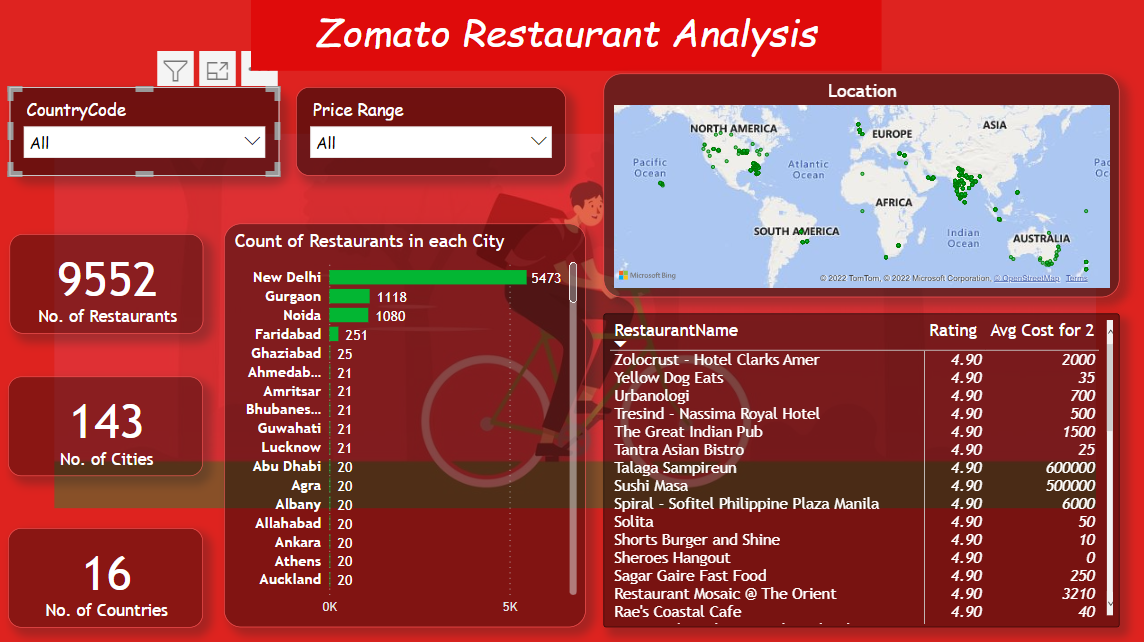

What the dashboard file says about the page in this screenshot:
{"tool":"powerbi","page":{"name":"Page 1","canvas":[1280,720],"ordinal":0},"visuals":[{"type":"card","fields":{"Values":["Count(ZomatoData.RestaurantID)"]},"box":[12.1,259.3,215.4,110.7],"z":0},{"type":"card","fields":{"Values":["Count(ZomatoData.City)"]},"box":[10.6,418.6,216.9,110.7],"z":1000},{"type":"card","fields":{"Values":["Count(ZomatoData.CountryCode)"]},"box":[10.6,586.9,216.9,110.7],"z":2000},{"type":"slicer","fields":{"Values":["ZomatoData.CountryCode"]},"box":[12.1,97.1,300.3,98.6],"z":3000},{"type":"slicer","fields":{"Values":["ZomatoData.Price_range"]},"box":[330.6,97.1,300.3,98.6],"z":4000},{"type":"clusteredBarChart","title":"Count of Restaurants in each City","fields":{"Category":["ZomatoData.City"],"Y":["CountNonNull(ZomatoData.RestaurantID)"]},"box":[250.2,248.7,401.9,448.9],"z":6000},{"type":"pivotTable","fields":{"Rows":["ZomatoData.RestaurantName"],"Values":["Avg(ZomatoData.Rating)","Sum(ZomatoData.Average_Cost_for_two)"]},"box":[671.8,348.8,573.3,348.8],"z":7000},{"type":"textbox","box":[280.6,0,700.7,78.9],"z":8000},{"type":"map","title":"Location","fields":{"Y":["ZomatoData.Latitude"],"X":["ZomatoData.Longitude"]},"box":[671.8,81.9,573.3,248.7],"z":9000}]}

Visuals, with their boxes in screenshot pixels (x1, y1, x2, y2), scaled from the page's 1280x720 canvas onto the 1144x642 screenshot:
card - Count(ZomatoData.RestaurantID): (left=11, top=231, right=203, bottom=330)
card - Count(ZomatoData.City): (left=9, top=373, right=203, bottom=472)
card - Count(ZomatoData.CountryCode): (left=9, top=523, right=203, bottom=622)
slicer - ZomatoData.CountryCode: (left=11, top=87, right=279, bottom=174)
slicer - ZomatoData.Price_range: (left=295, top=87, right=564, bottom=174)
"Count of Restaurants in each City" clusteredBarChart: (left=224, top=222, right=583, bottom=622)
pivotTable - ZomatoData.RestaurantName x Avg(ZomatoData.Rating): (left=600, top=311, right=1113, bottom=622)
textbox: (left=251, top=0, right=877, bottom=70)
"Location" map: (left=600, top=73, right=1113, bottom=295)
